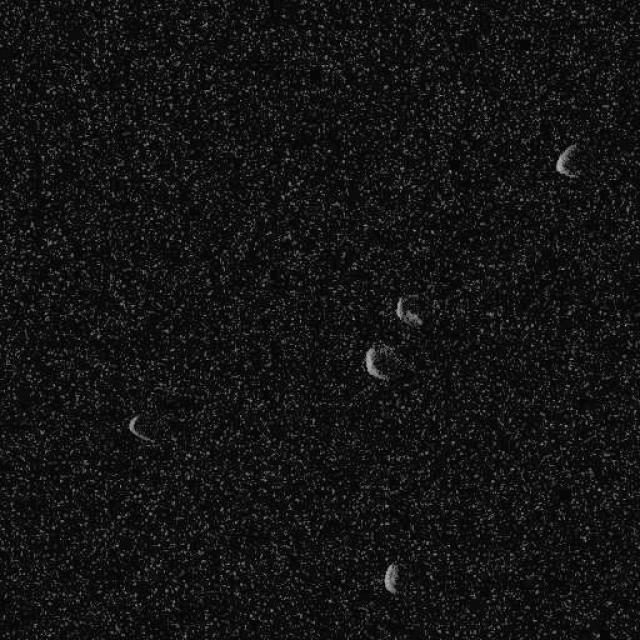D2: (362, 341, 397, 381), (393, 292, 422, 328), (126, 411, 155, 445), (554, 142, 580, 178), (382, 561, 398, 595)
